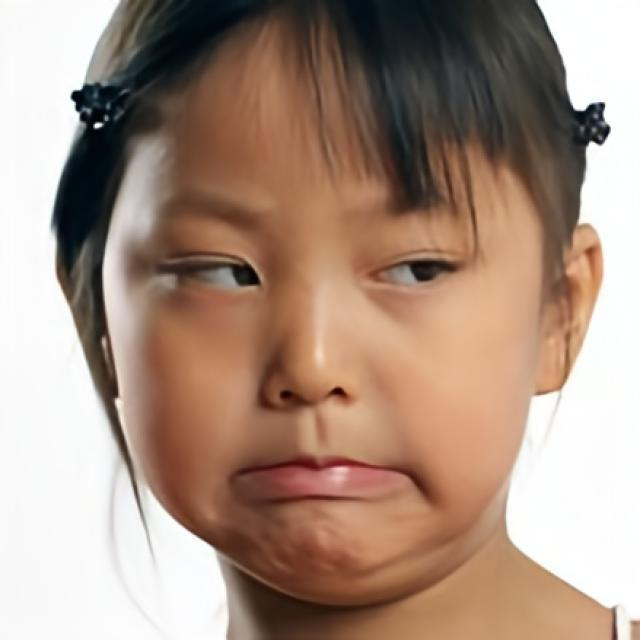disgust: (100, 5, 543, 607)
